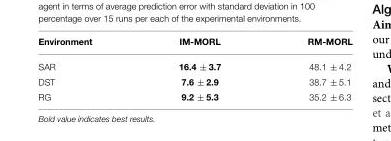table: (37, 37, 351, 101)
table column: (134, 37, 263, 101), (37, 37, 134, 101), (263, 37, 351, 101)
table column header: (37, 37, 351, 54)
table row: (37, 54, 351, 74), (37, 37, 351, 54), (37, 74, 351, 89), (37, 89, 351, 101)
